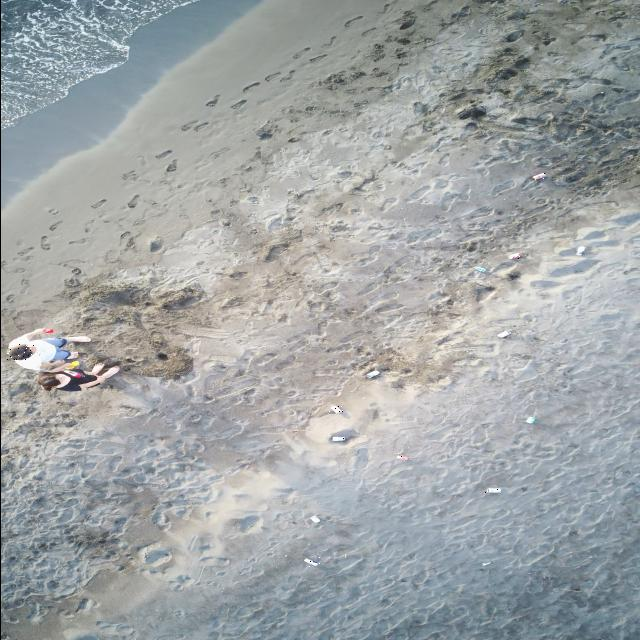Garbage: (328, 428, 356, 442), (64, 368, 83, 377), (364, 368, 380, 377), (532, 172, 546, 180), (508, 252, 522, 260), (496, 329, 511, 336), (303, 557, 318, 564), (576, 246, 586, 255), (332, 404, 343, 412), (484, 487, 500, 492), (68, 360, 79, 367), (331, 435, 346, 440), (397, 453, 407, 460), (527, 415, 535, 423), (311, 515, 319, 523), (475, 266, 487, 271), (483, 560, 491, 566), (43, 327, 52, 332)
